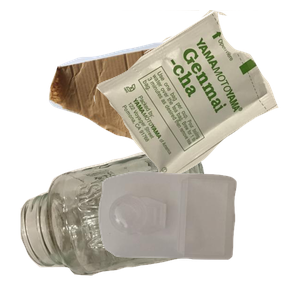cardboard: (46, 40, 226, 179)
glass: (18, 143, 227, 300)
plastic: (96, 169, 300, 300)
trash: (91, 10, 300, 186)
